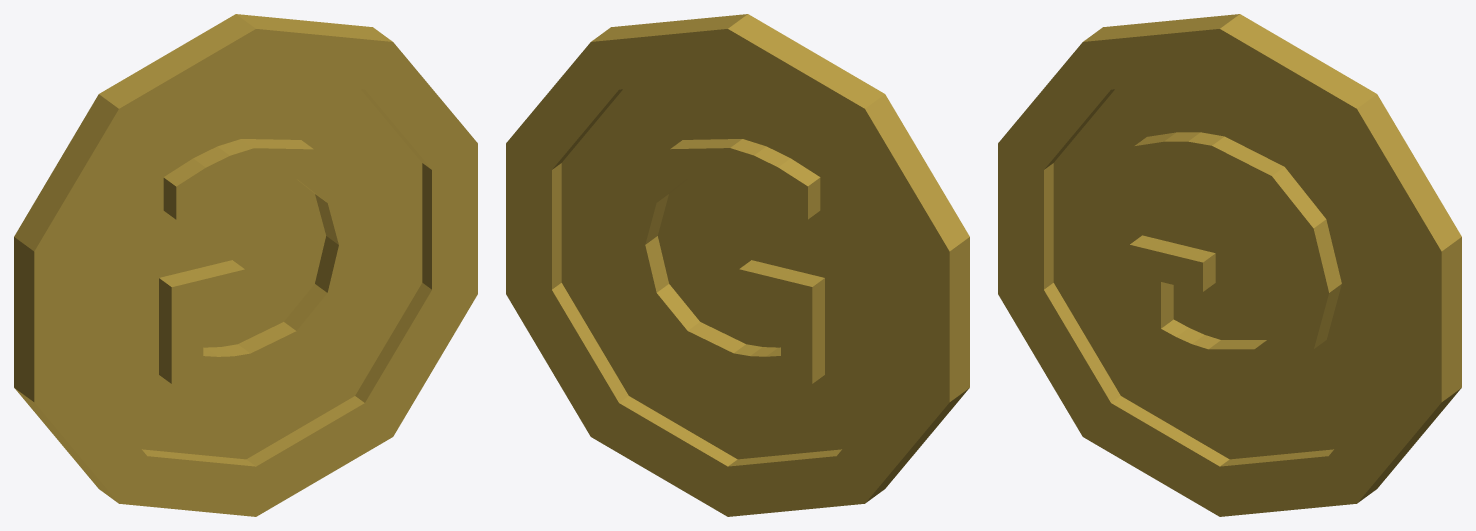
File: Gold Coin.glb
3 views of the same model, side by side, from view 1: azimuth 30°, elevation 25°; view 2: azimuth 150°, elevation 25°; view 3: azimuth 330°, elevation 25° (orthographic).
Visible parts, largest first — view 1: GoldCoin_Circle.003; view 2: GoldCoin_Circle.003; view 3: GoldCoin_Circle.003.
Boxes of the visible parts, box(x1,y1,x2,y2) form: GoldCoin_Circle.003: box(14, 14, 477, 516); GoldCoin_Circle.003: box(506, 14, 969, 516); GoldCoin_Circle.003: box(998, 14, 1461, 516).
Bounding box in the file's own units: 6.37 × 6.7 × 0.6442.
